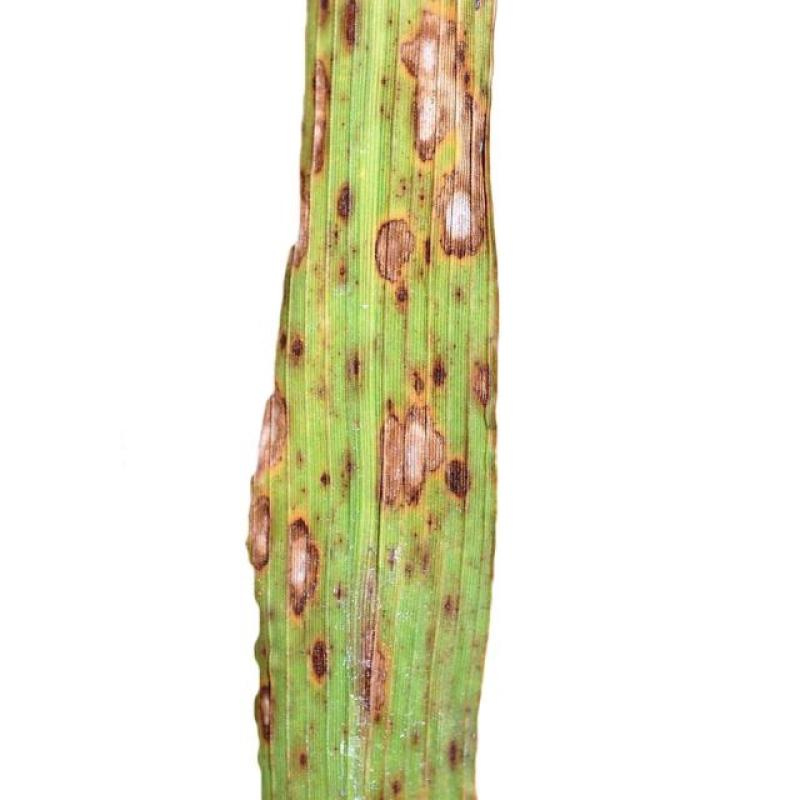Leaf_Blast: (238, 400, 350, 706), (365, 518, 497, 768), (272, 27, 376, 298), (350, 344, 471, 528), (391, 1, 504, 180)
